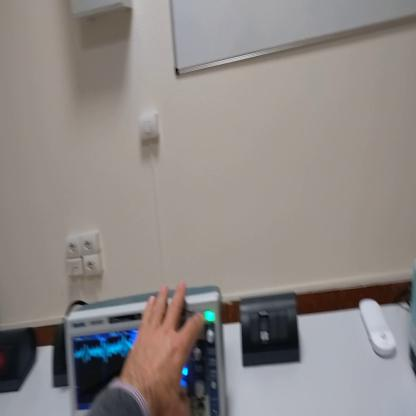hand: (122, 280, 206, 413)
oscilloscope: (65, 288, 233, 415)
socket: (1, 329, 39, 395), (52, 331, 69, 388)
welder station: (410, 259, 416, 374)
